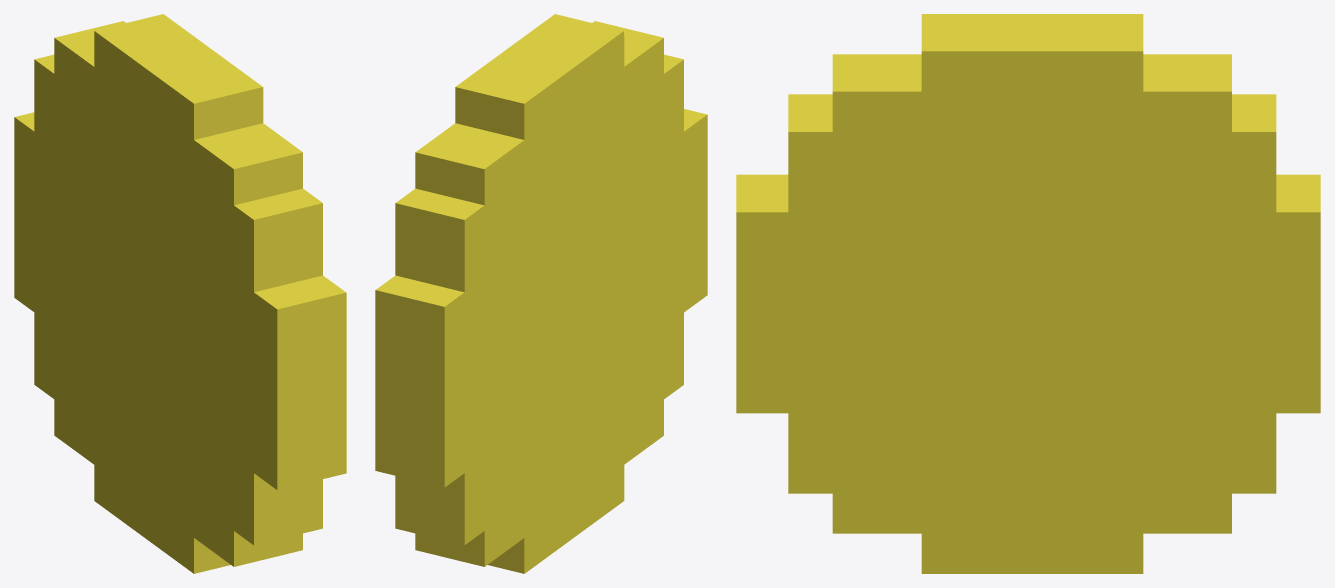
Rendered from Pac Man Animation test.fbx.
3 renders of one model, left to right at view 1: azimuth 30°, elevation 25°; view 2: azimuth 150°, elevation 25°; view 3: azimuth 270°, elevation 25°, orthographic. The views are drawn at different scales.
Visible parts, largest first — view 1: pasted__pCube2, pasted__pCube3; view 2: pasted__pCube2, pasted__pCube3; view 3: pasted__pCube3.
Boxes of the visible parts, box(x1,y1,x2,y2) form: pasted__pCube2: box(14, 32, 302, 573); pasted__pCube3: box(15, 14, 346, 573); pasted__pCube2: box(375, 36, 683, 573); pasted__pCube3: box(375, 14, 707, 573); pasted__pCube3: box(736, 14, 1320, 573).
Size of the model in its own units: 0.02 by 0.13 by 0.1318.
